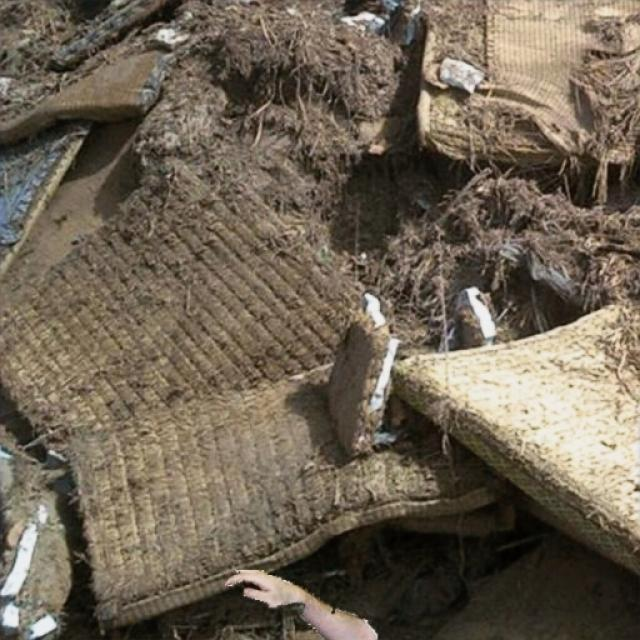Person in Rubble: (225, 570, 378, 639)
